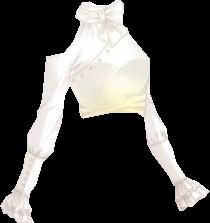Bodice: (68, 0, 149, 118)
Neckline: (70, 32, 129, 82), (82, 2, 112, 8)
Sleeve: (1, 48, 70, 222)
Sleeveline: (27, 148, 46, 159), (68, 48, 73, 82), (14, 187, 31, 195)
Waistline: (81, 109, 144, 118)
